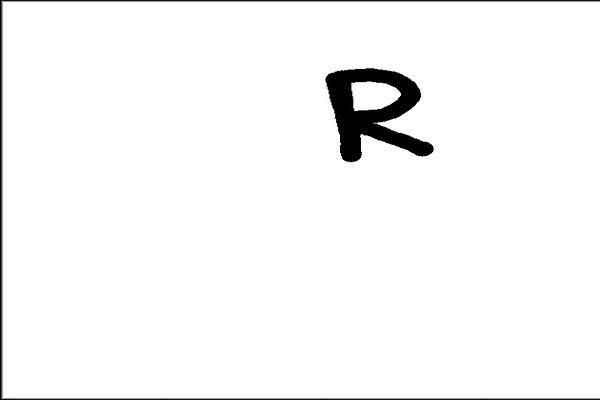R: (318, 60, 445, 170)
